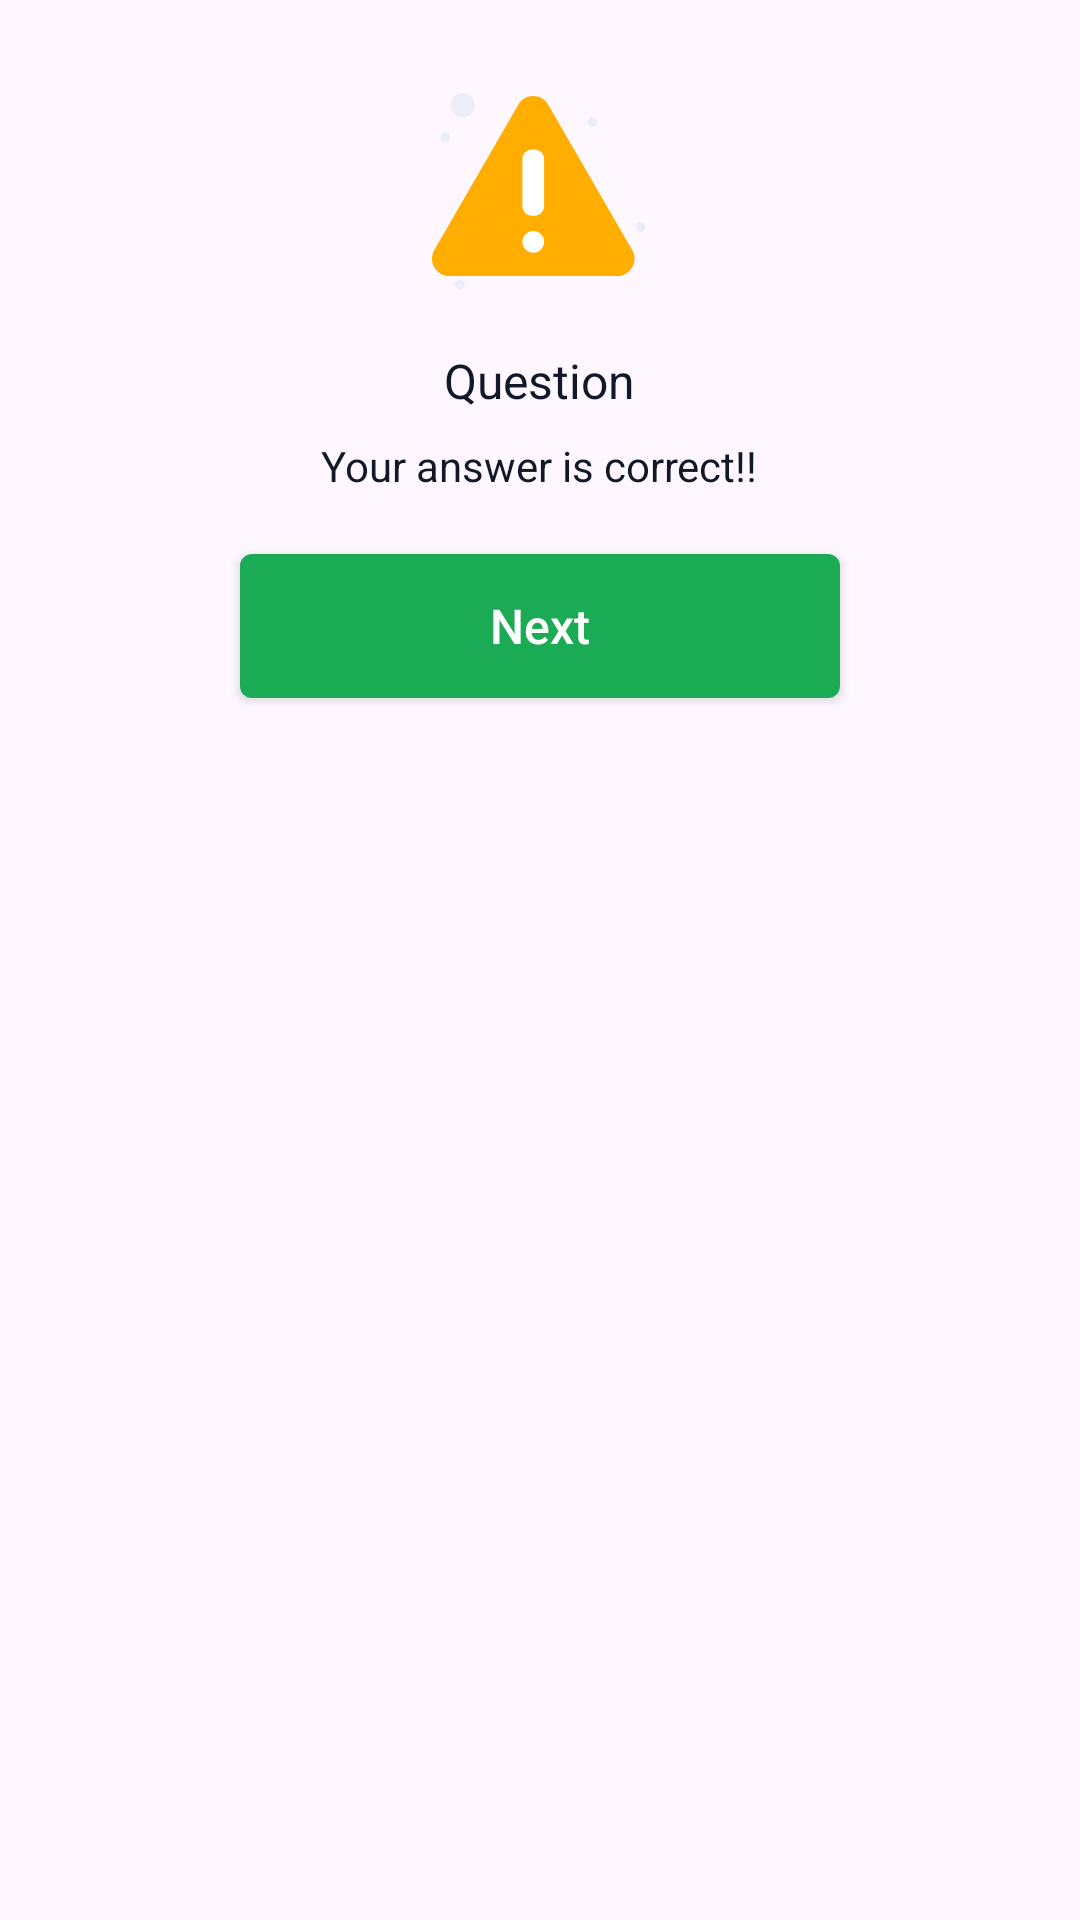

Icon click points for this 1080w x 1920h phone screenshot, format [x,y]:
warning: [533,186]
